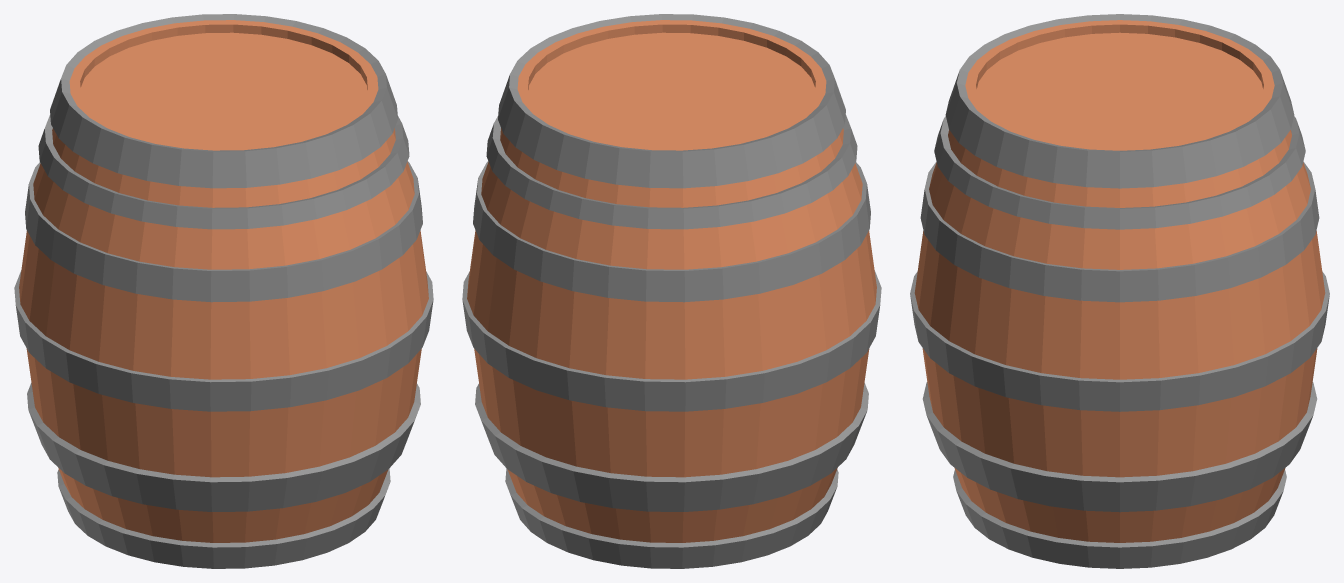
The model's file is barrel.fbx.
The picture shows the model from 3 angles, left to right: view 1: azimuth 30°, elevation 25°; view 2: azimuth 150°, elevation 25°; view 3: azimuth 270°, elevation 25°; orthographic projection.
Visible parts, largest first — view 1: Ton 2; view 2: Ton 2; view 3: Ton 2.
Boxes of the visible parts, box(x1,y1,x2,y2) form: Ton 2: box(14, 14, 433, 568); Ton 2: box(462, 14, 881, 568); Ton 2: box(910, 14, 1329, 568).
Size of the model in its own units: 86.24 by 95.07 by 86.24.
